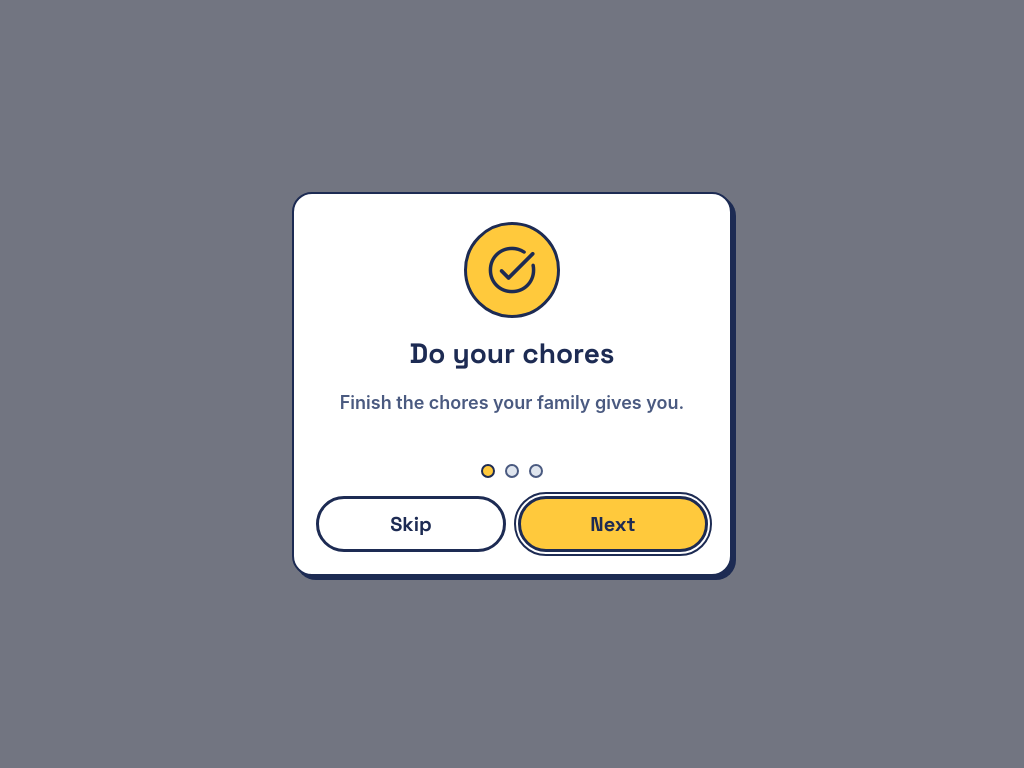
Test: KidIntroSwipe › dots jump to a card
Click the button named "Go to slide 3". click: coordinates (536, 472)
box: [529, 464, 543, 478]
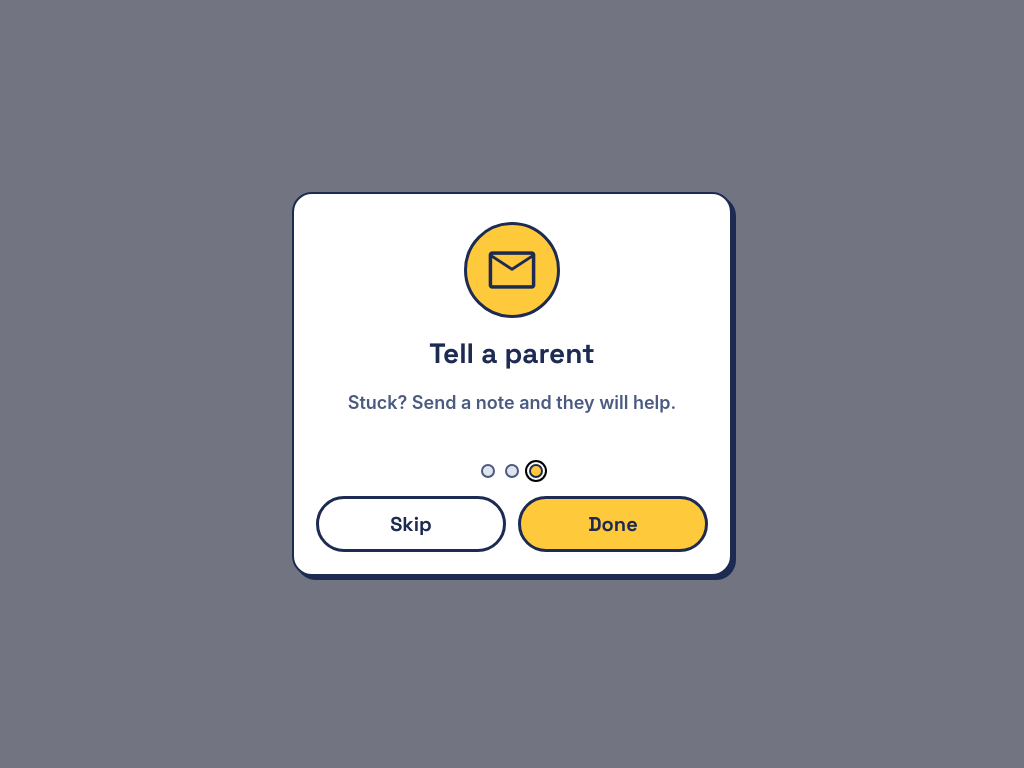
Check: the heading "Tell a parent" is shown, box [429, 332, 595, 375]
